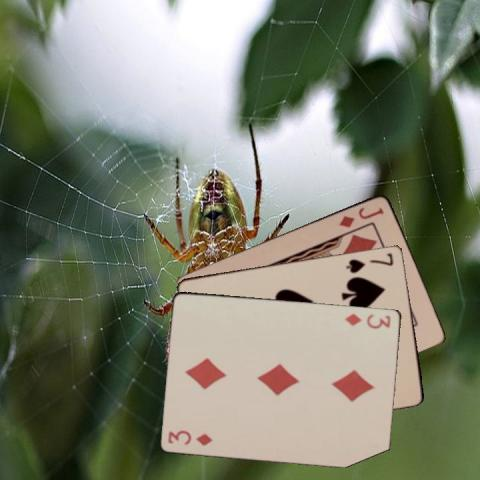3d: (342, 310, 392, 330), (165, 427, 214, 447)
7s: (342, 250, 394, 275)
Jd: (336, 204, 385, 229)
